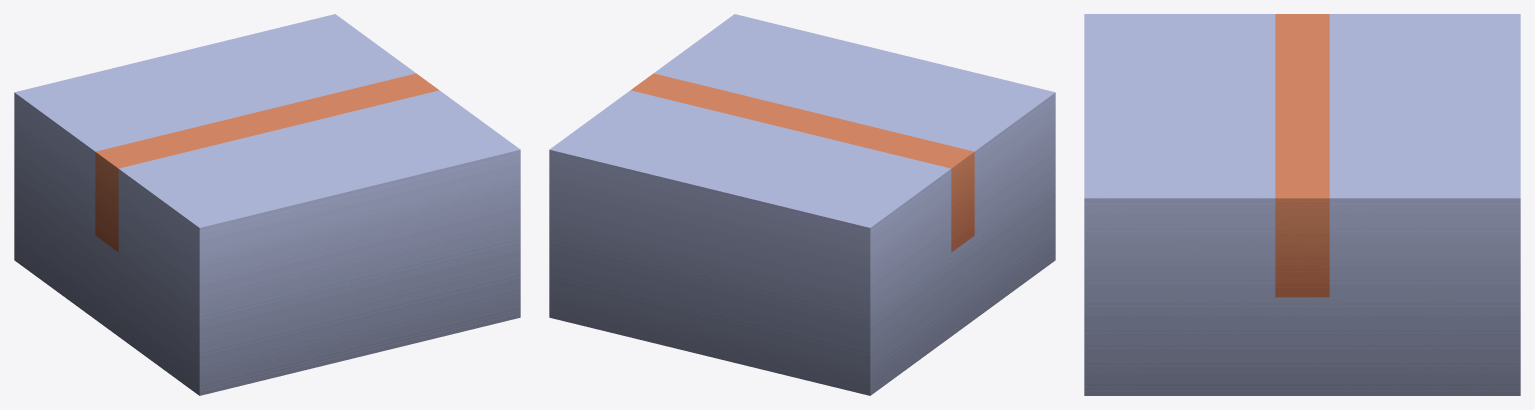
The model's file is box-large.glb.
3 views of the same model, side by side, from view 1: azimuth 30°, elevation 25°; view 2: azimuth 150°, elevation 25°; view 3: azimuth 270°, elevation 25° (orthographic). The views are drawn at different scales.
Parts seen in each view (by area): view 1: box-large; view 2: box-large; view 3: box-large.
Boxes of the visible parts, x1=… form: box-large: x1=14, y1=14, x2=520, y2=395; box-large: x1=549, y1=14, x2=1055, y2=395; box-large: x1=1084, y1=14, x2=1520, y2=395.
Size of the model in its own units: 1 by 0.5 by 1.
1 material, 1 textured.
